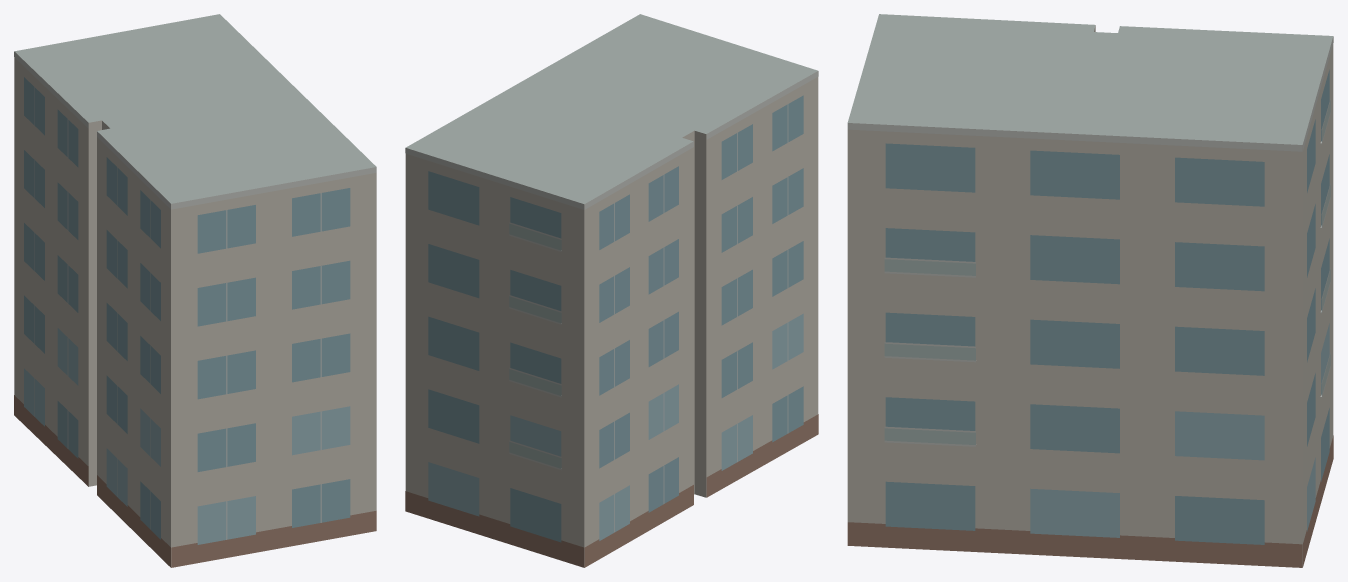
The model's file is survey-upis-32679571.glb.
3 views of the same model, side by side, from view 1: azimuth 30°, elevation 25°; view 2: azimuth 150°, elevation 25°; view 3: azimuth 270°, elevation 25° (orthographic). The views are drawn at different scales.
Visible parts, largest first — view 1: survey-upis-32679571.tmp; view 2: survey-upis-32679571.tmp; view 3: survey-upis-32679571.tmp.
Boxes of the visible parts, box(x1,y1,x2,y2) form: survey-upis-32679571.tmp: box(14, 14, 376, 567); survey-upis-32679571.tmp: box(405, 14, 818, 567); survey-upis-32679571.tmp: box(847, 14, 1333, 567).
Bounding box in the file's own units: 10.24 × 15.4 × 16.05.
